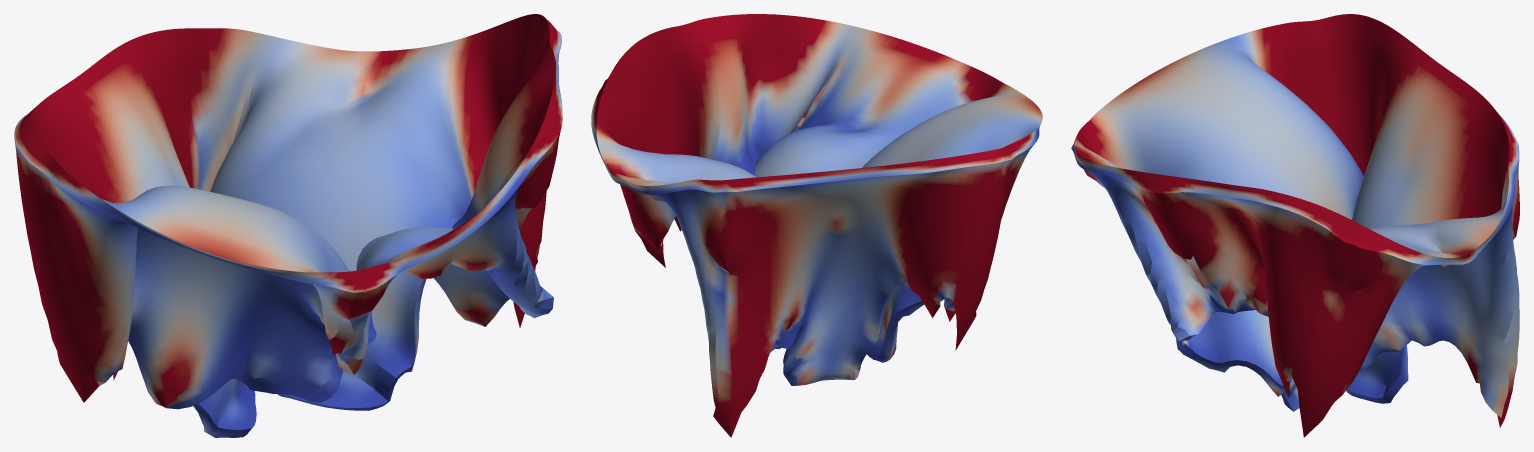
The model's file is AR_Model_3_Android.glb.
3 renders of one model, left to right at view 1: azimuth 30°, elevation 25°; view 2: azimuth 150°, elevation 25°; view 3: azimuth 270°, elevation 25°, orthographic. The views are drawn at different scales.
Visible parts, largest first — view 1: OCS14_PM_3039_MPS_250; view 2: OCS14_PM_3039_MPS_250; view 3: OCS14_PM_3039_MPS_250.
Boxes of the visible parts, <box> form: OCS14_PM_3039_MPS_250: <box>14,14,562,437</box>; OCS14_PM_3039_MPS_250: <box>591,14,1042,437</box>; OCS14_PM_3039_MPS_250: <box>1071,14,1519,437</box>.
Size of the model in its own units: 0.3669 by 0.262 by 0.3287.
